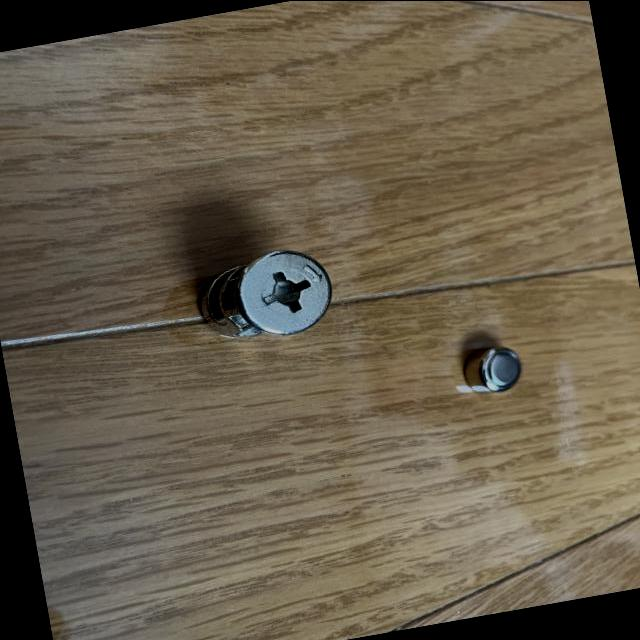COIN: (459, 344, 524, 398)
